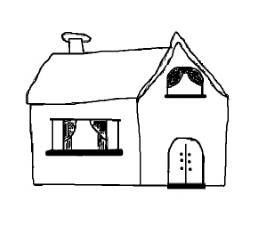chimney: (54, 22, 96, 61)
door: (162, 129, 210, 195)
open_window: (59, 115, 111, 157), (162, 66, 207, 98)
roof: (26, 31, 230, 105)
wall: (25, 96, 146, 189)
